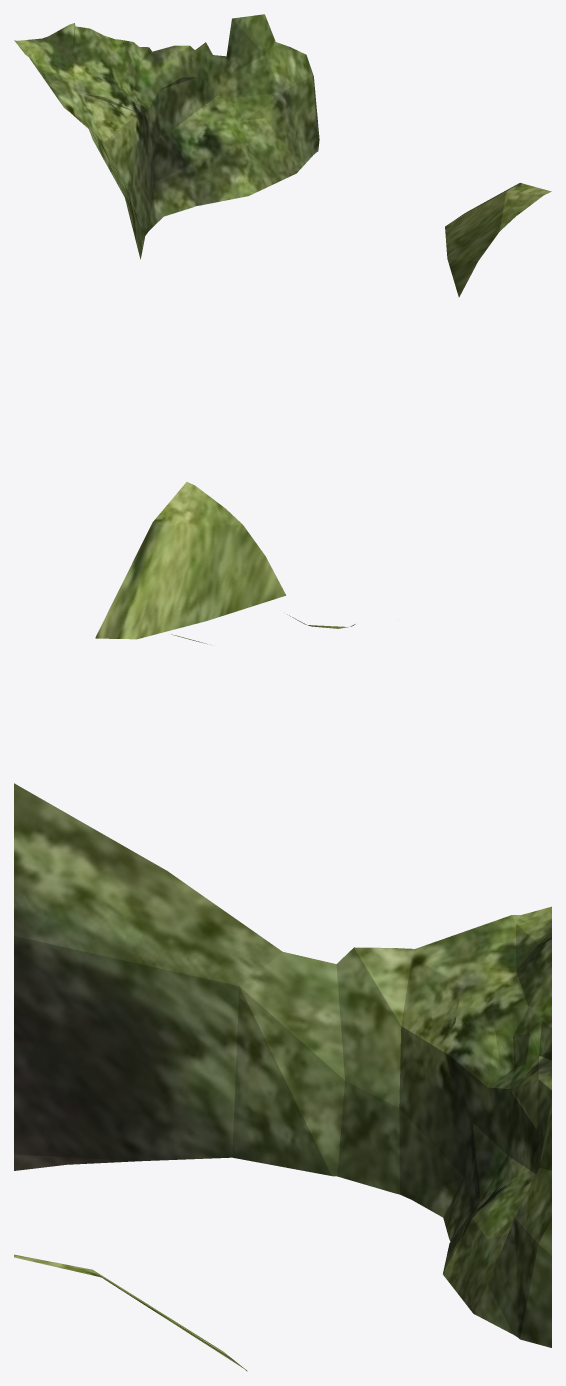
3 views of the same model, one above another, from view 1: azimuth 30°, elevation 25°; view 2: azimuth 150°, elevation 25°; view 3: azimuth 270°, elevation 25° (orthographic). The views are drawn at different scales.
Bounding box in the file's own units: 2.95 × 2.19 × 2.95.
Materials: 2 (2 with a texture image).
